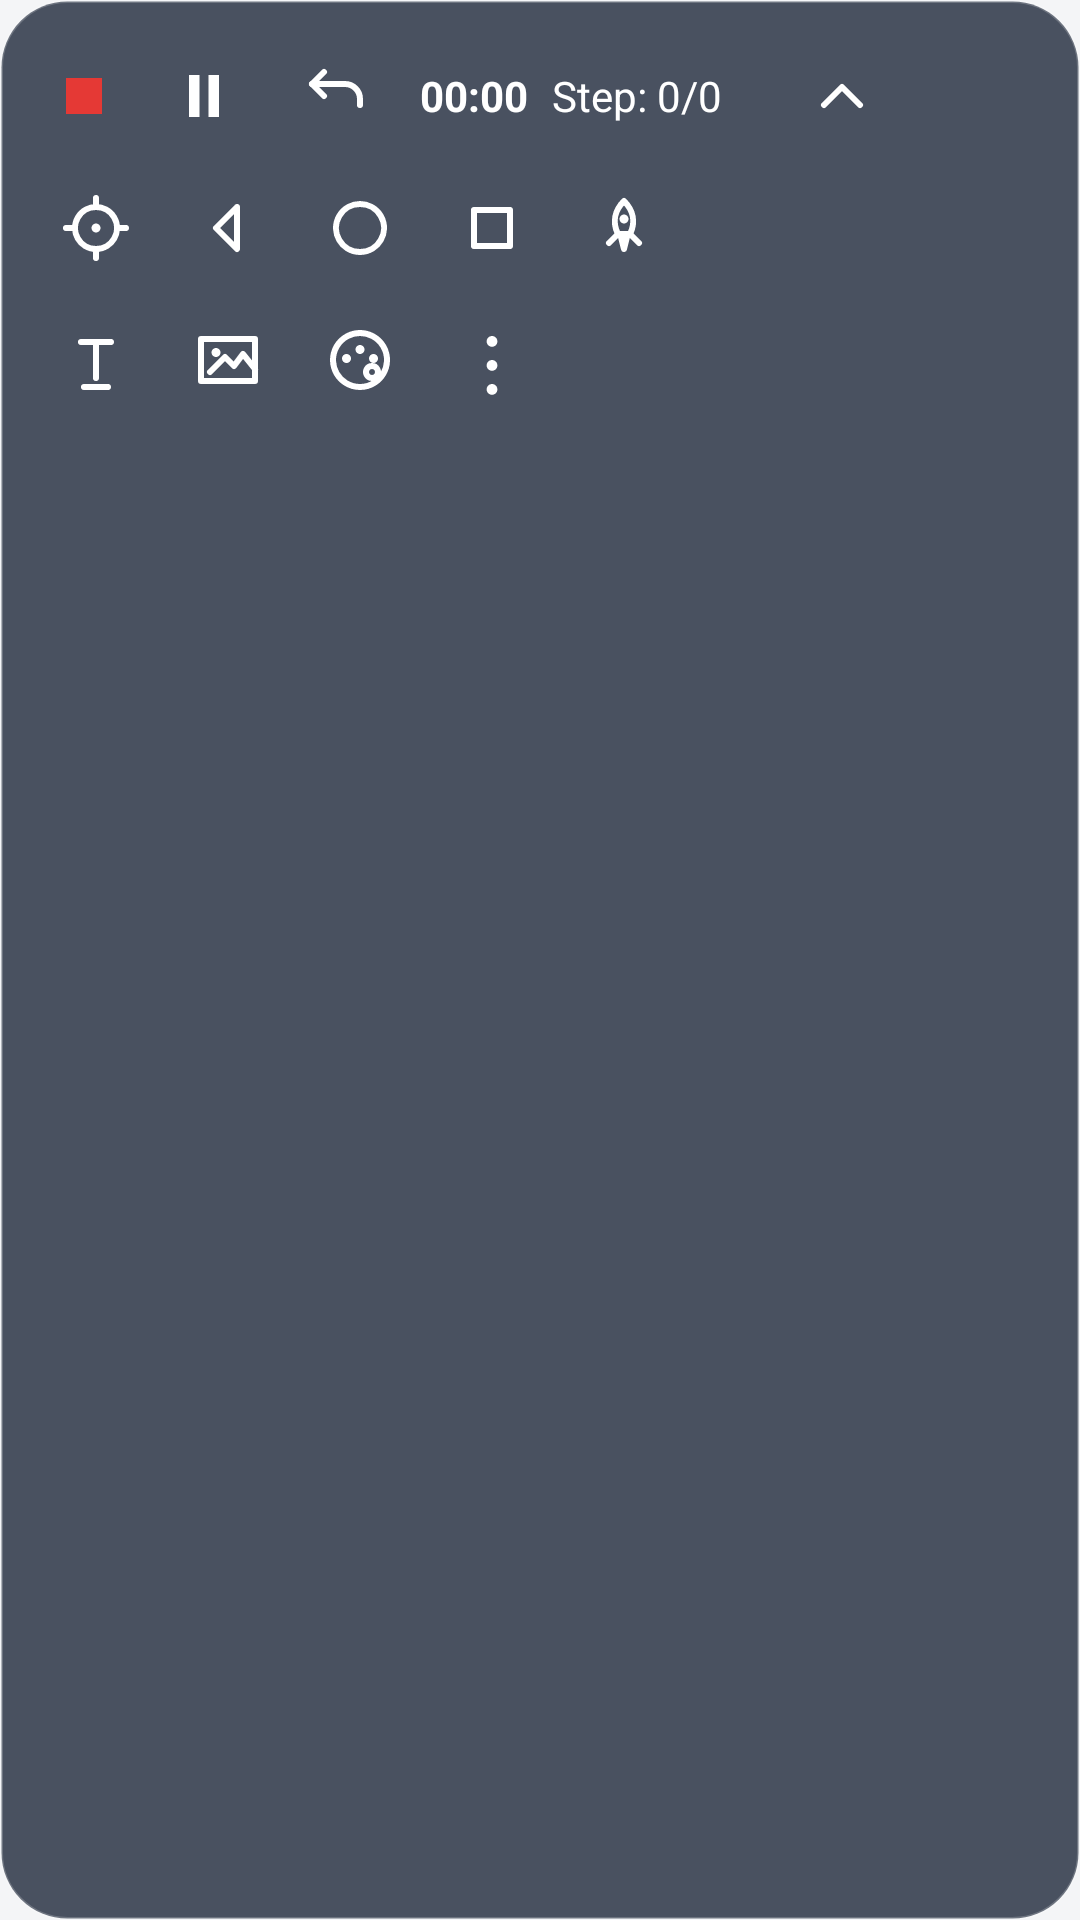

Where icons sit on this 1080 x 1920 app screen, as bbox=(x1, y1, x2, y2):
Back key: bbox=(213, 204, 240, 252)
Collapse panel: bbox=(821, 84, 863, 108)
Home key: bbox=(333, 201, 387, 255)
Image recognition: bbox=(198, 336, 258, 384)
More: bbox=(486, 336, 498, 395)
OCR: bbox=(78, 339, 114, 390)
Palette: bbox=(330, 330, 390, 390)
Pause: bbox=(189, 75, 219, 117)
Recents key: bbox=(471, 207, 513, 249)
Rocket: bbox=(606, 198, 642, 252)
Target: bbox=(63, 195, 129, 261)
Undo: bbox=(309, 69, 363, 108)
